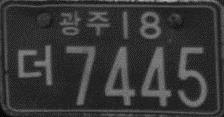1: (120, 9, 130, 40)
4: (137, 44, 172, 106), (102, 45, 135, 106)
5: (176, 45, 206, 109)
7: (64, 43, 96, 108)
8: (139, 10, 162, 41)
광주_O: (59, 8, 112, 37)
더: (16, 42, 54, 88)
